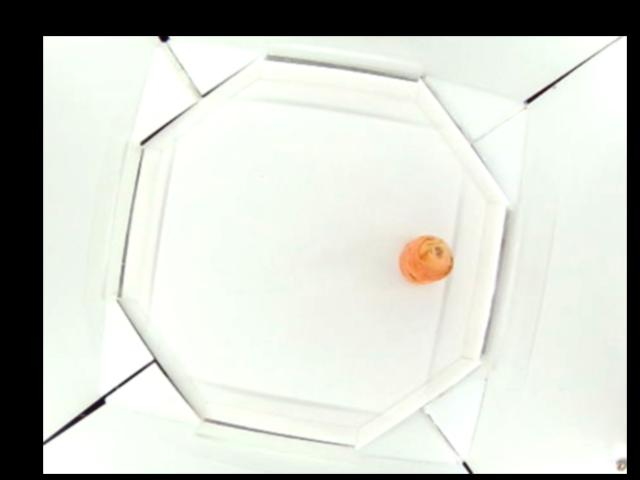Carrot: (397, 233, 456, 285)
